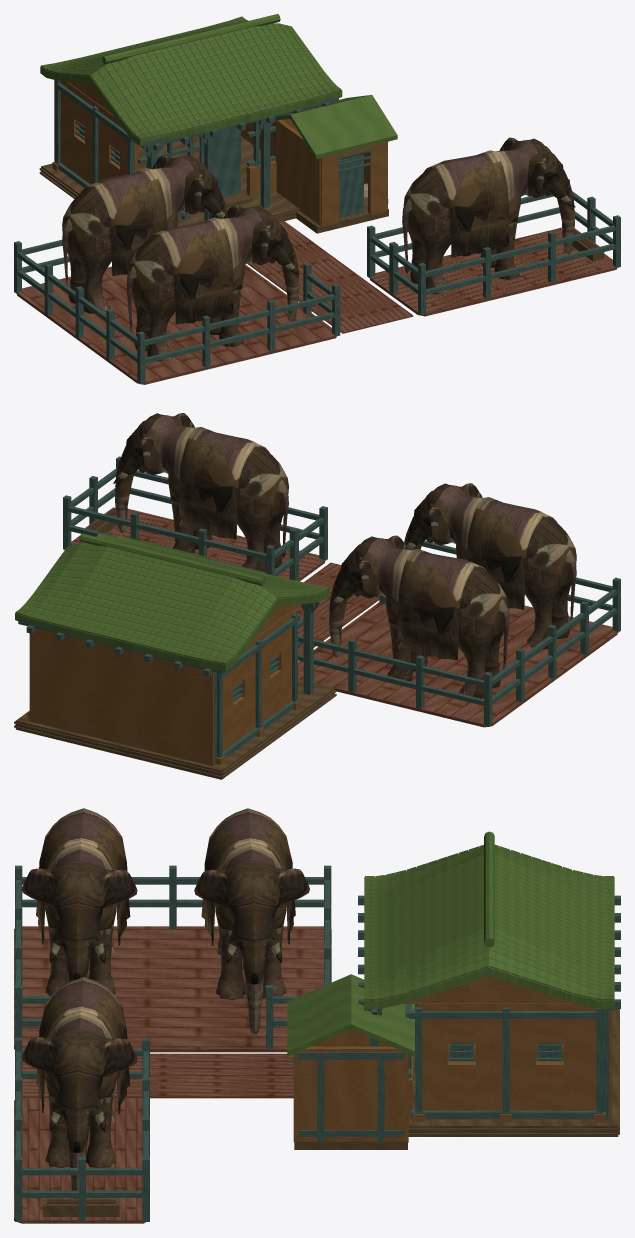
The picture shows the model from 3 angles, top to bottom: view 1: azimuth 30°, elevation 25°; view 2: azimuth 150°, elevation 25°; view 3: azimuth 270°, elevation 25°; orthographic projection. The views are drawn at different scales.
Parts seen in each view (by area): view 1: garrison_part_0001, garrison_part_0000; view 2: garrison_part_0001, garrison_part_0000; view 3: garrison_part_0001, garrison_part_0000.
Boxes of the visible parts, x1=… form: garrison_part_0001: x1=14, y1=14, x2=620, y2=384; garrison_part_0000: x1=17, y1=135, x2=616, y2=384; garrison_part_0001: x1=15, y1=413, x2=620, y2=766; garrison_part_0000: x1=14, y1=508, x2=617, y2=779; garrison_part_0001: x1=15, y1=808, x2=620, y2=1221; garrison_part_0000: x1=14, y1=926, x2=619, y2=1223.
Size of the model in its own units: 1500 by 457 by 1309.
